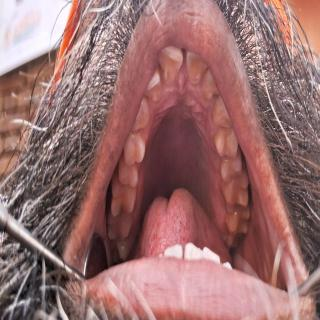UL1BC_healthy: (215, 129, 238, 156)
UL1M_sdecay: (222, 175, 249, 214)
UL2BC_healthy: (221, 157, 243, 181)
UL2M_healthy: (226, 213, 249, 234)
ULCI_healthy: (186, 51, 207, 85)
ULC_healthy: (213, 97, 233, 128)
ULLI_sdecay: (201, 69, 220, 98)
UR1BC_healthy: (123, 134, 145, 166)
UR1M_healthy: (111, 187, 135, 216)
UR2BC_healthy: (119, 165, 138, 187)
UR2M_healthy: (108, 217, 132, 239)
URCI_healthy: (159, 45, 183, 81)
URC_healthy: (132, 100, 150, 131)
URLI_healthy: (144, 70, 162, 97)
